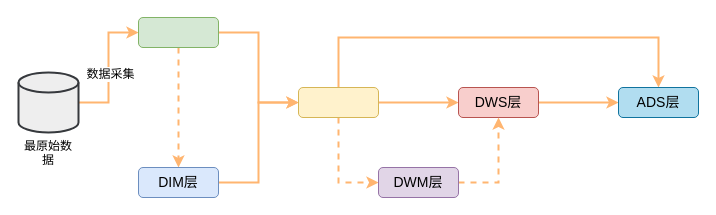
Some shapes in this 716 by 215 pixel diagram are drawn without their labels. The box of each missing label's shape, as (x1, y1, x2, y2) in pixels:
DWD层: (298, 86, 378, 118)
ODS层: (138, 16, 218, 48)
